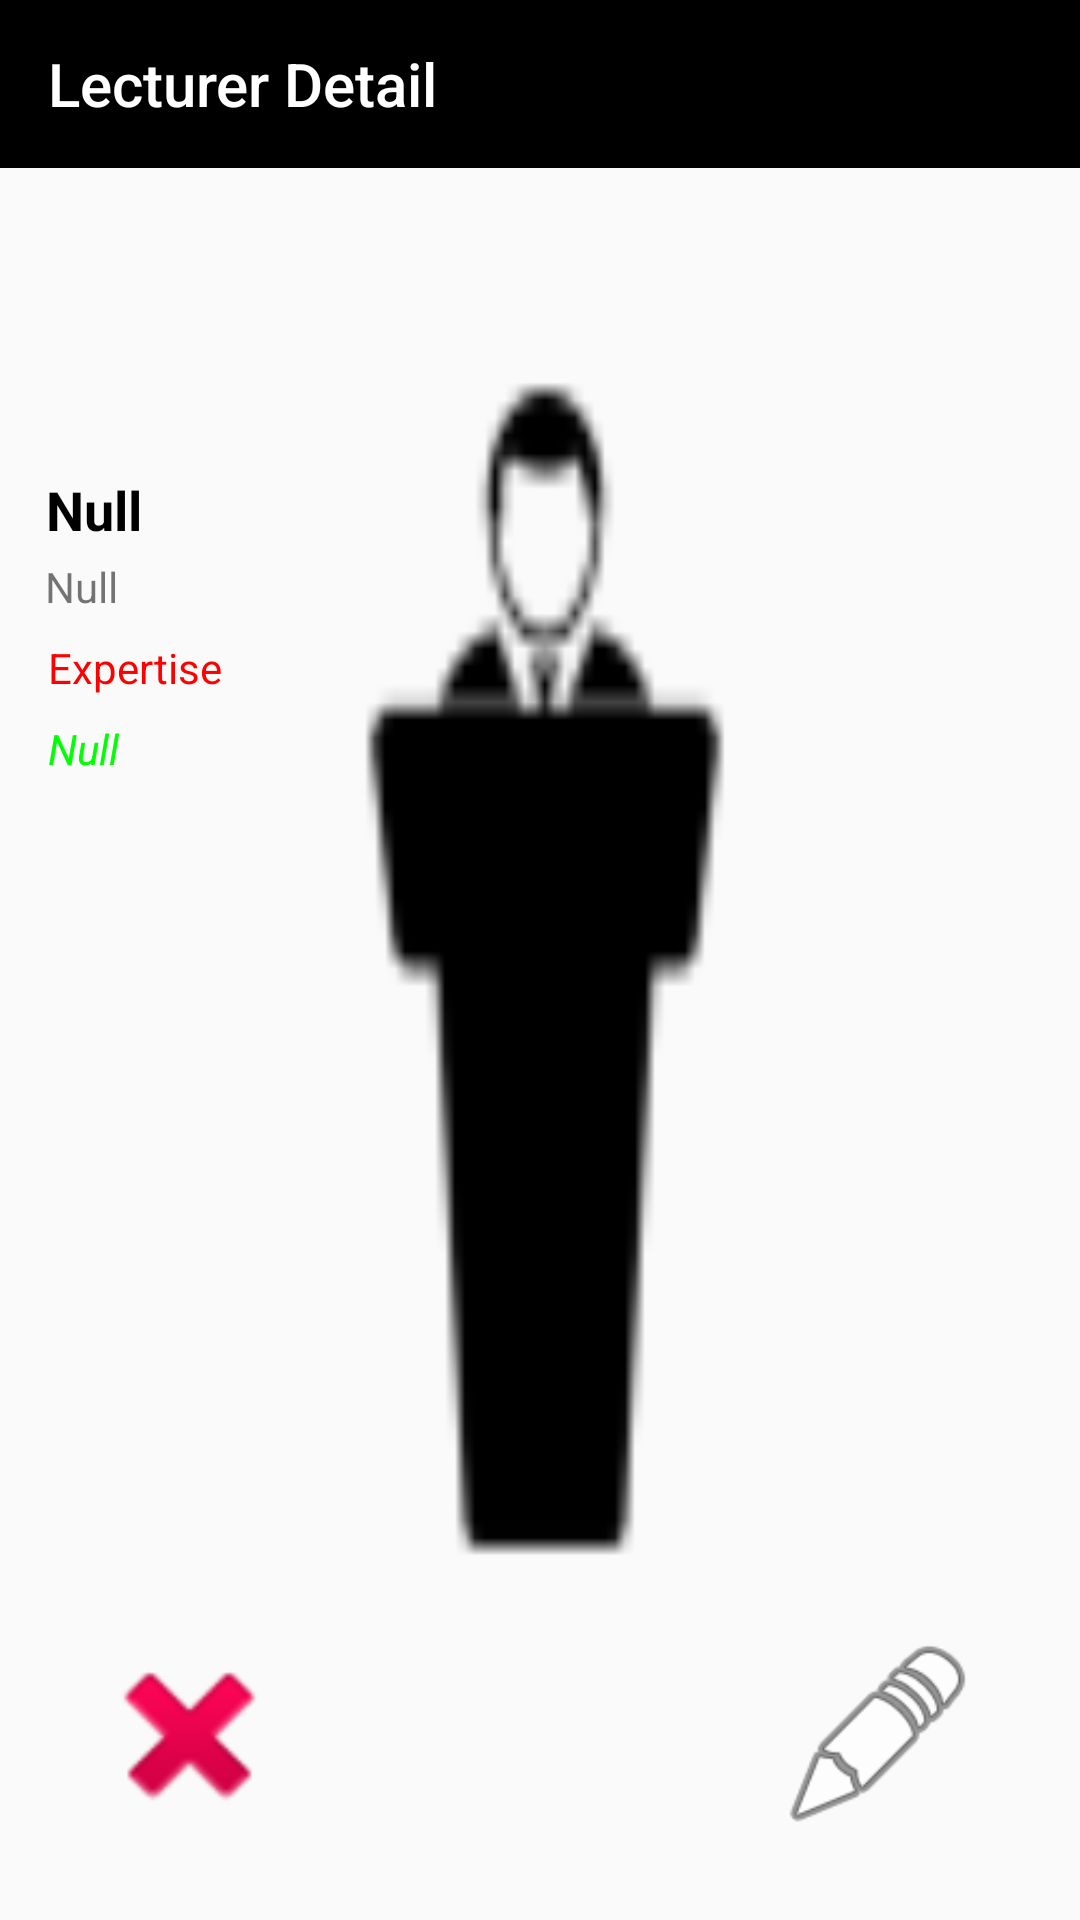

Where icons sit on this 1080 x 1920 app screen, as {"x1": x1, "y1": y1, "x2": x2, "y2": y2}:
delete: {"x1": 124, "y1": 1672, "x2": 255, "y2": 1800}
edit: {"x1": 790, "y1": 1646, "x2": 965, "y2": 1822}
